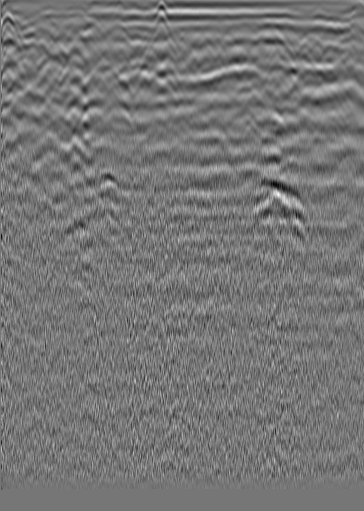가스: (64, 217, 84, 237)
상수: (323, 33, 343, 53)
우수: (202, 35, 222, 55)
